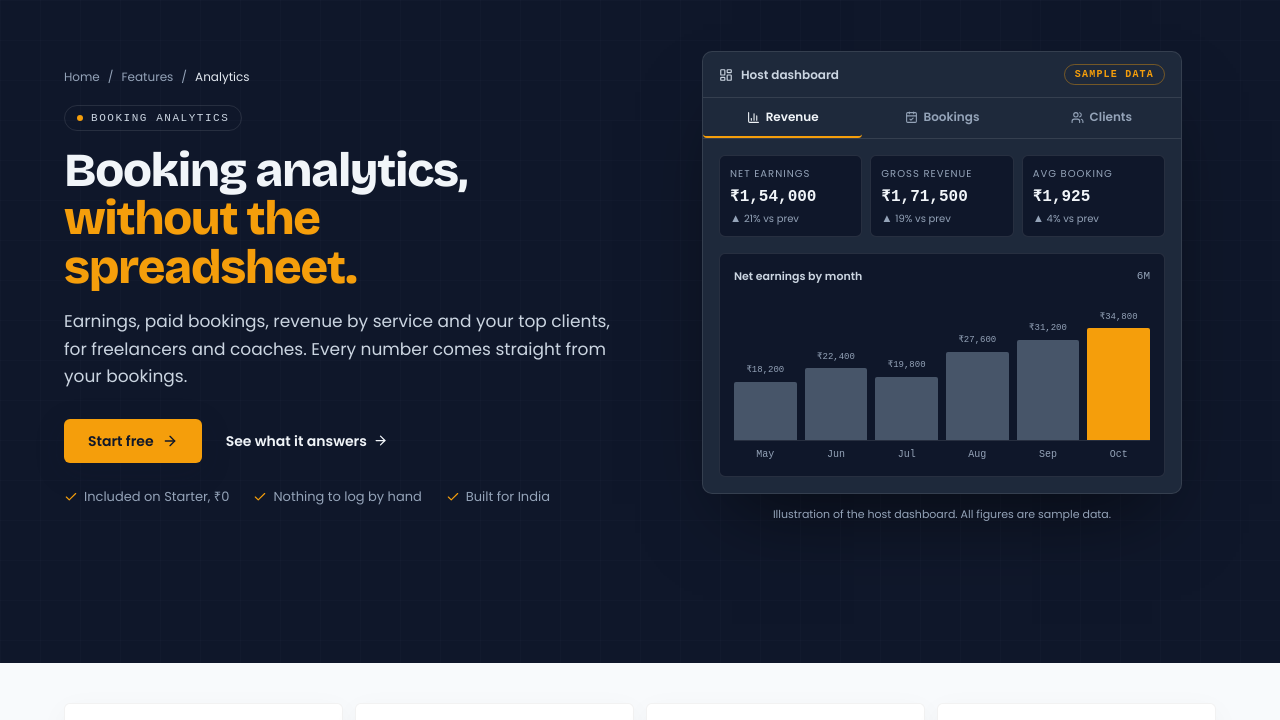
Test: Analytics feature page › labels the hero demo as sample data and switches tabs
Expected: the text "Sample data" is shown, [1064,64,1165,86]
Expected: the text "Net earnings by month" is shown, [734,268,862,285]
Click the tab "Clients": (1101, 118) [1022,98,1181,138]
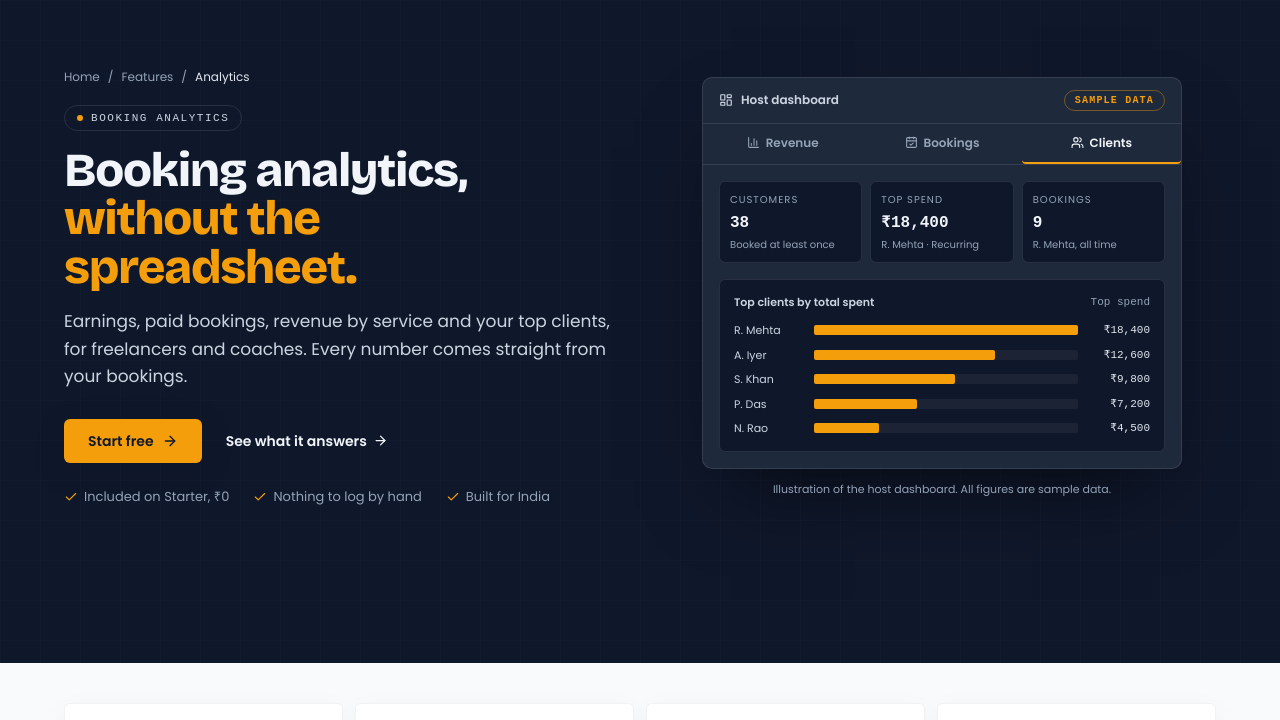
Expected: the text "Top clients by total spent" is shown, [734,294,874,310]
